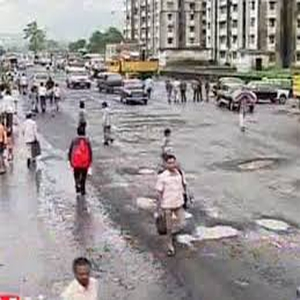pothole: (182, 224, 247, 242), (255, 214, 294, 234), (236, 156, 279, 171)
